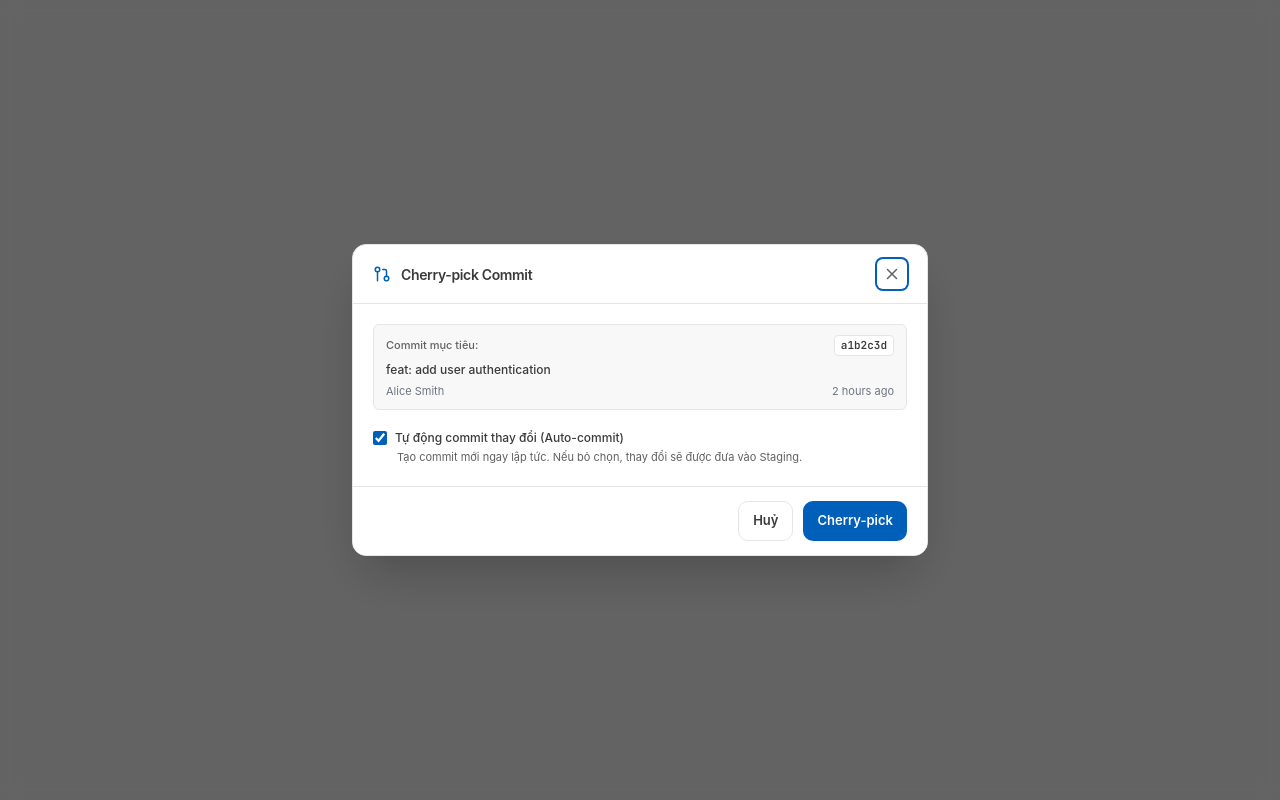
it: CherryPickModal › handles generic error without closing modal
The width and height of the screenshot is (1280, 800).
Click the button "Cherry-pick" at x=855, y=521, box [803,501,907,541]
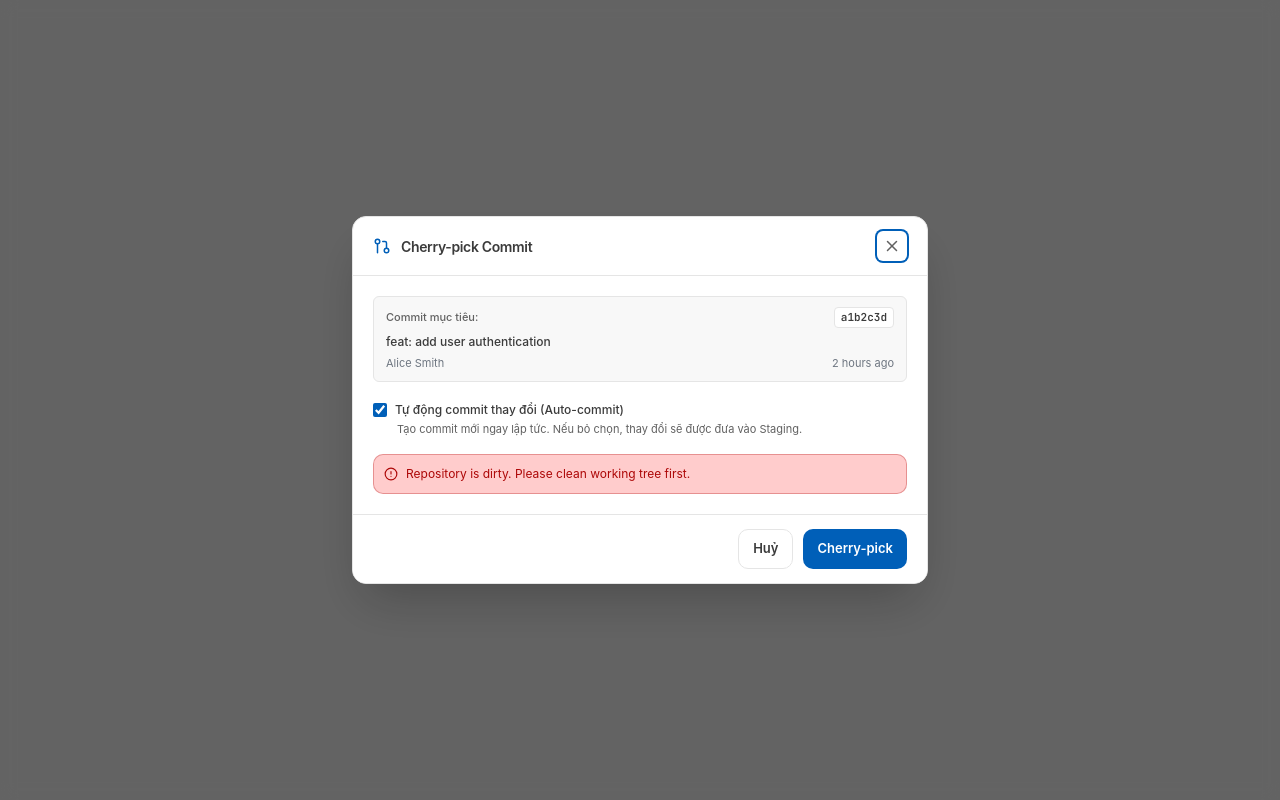
Expected: the text "Repository is dirty. Please clean working tree first." is shown, [406,465,690,483]
